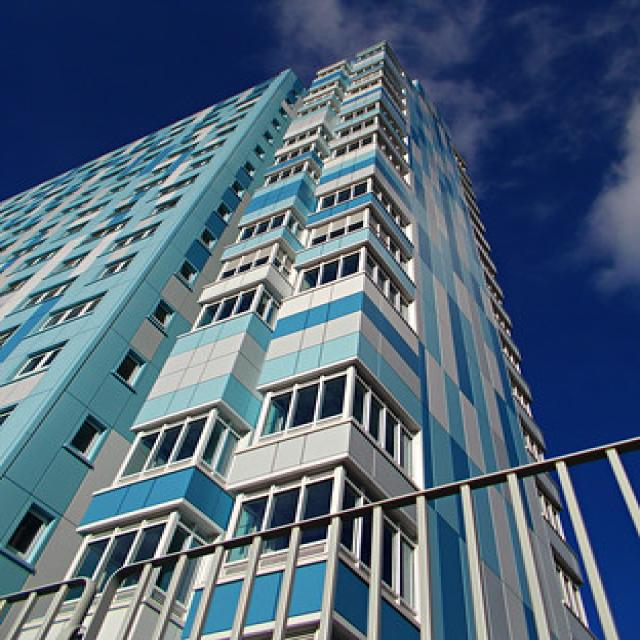building: (5, 17, 598, 640)
